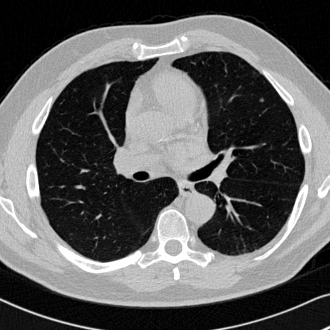nodule: (259, 98, 263, 102)
